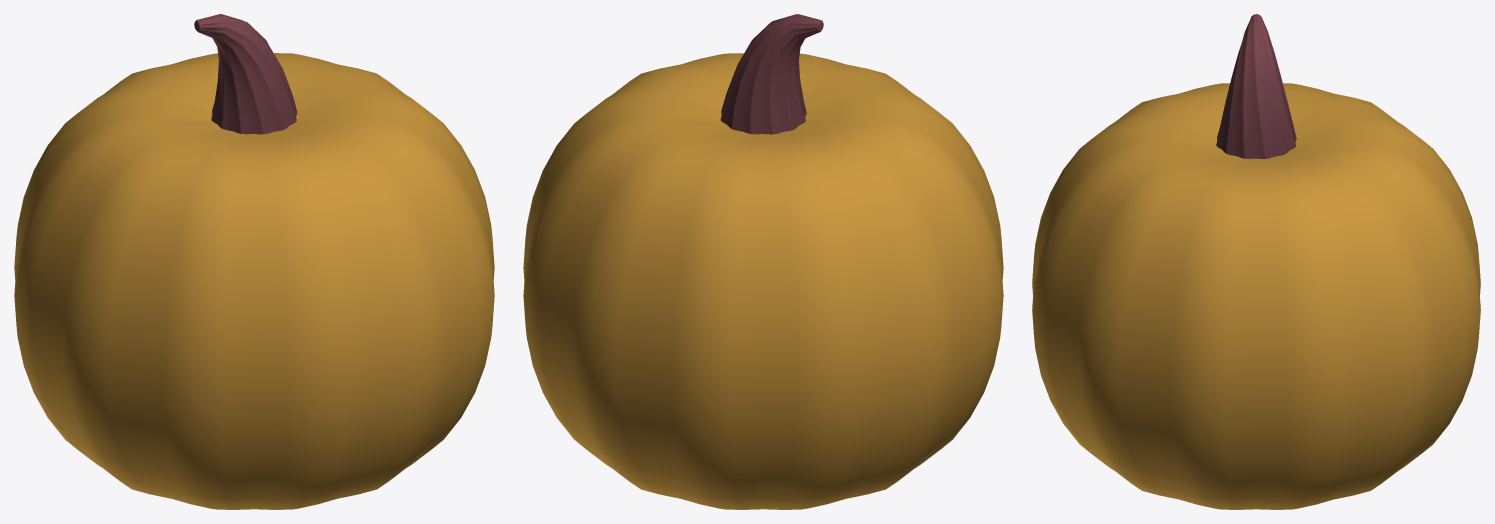
Rendered from pumpkin_01.fbx.
3 renders of one model, left to right at view 1: azimuth 30°, elevation 25°; view 2: azimuth 150°, elevation 25°; view 3: azimuth 270°, elevation 25°, orthographic. The views are drawn at different scales.
Parts seen in each view (by area): view 1: Sphere, Loft001.001; view 2: Sphere, Loft001.001; view 3: Sphere, Loft001.001.
Part boxes in pixels (x1,y1,x2,y2): Sphere: (14,53,494,509); Loft001.001: (194,14,297,134); Sphere: (523,53,1003,509); Loft001.001: (720,14,823,134); Sphere: (1032,83,1480,509); Loft001.001: (1216,14,1296,158).
Size of the model in its own units: 61.12 by 63.04 by 61.12.
